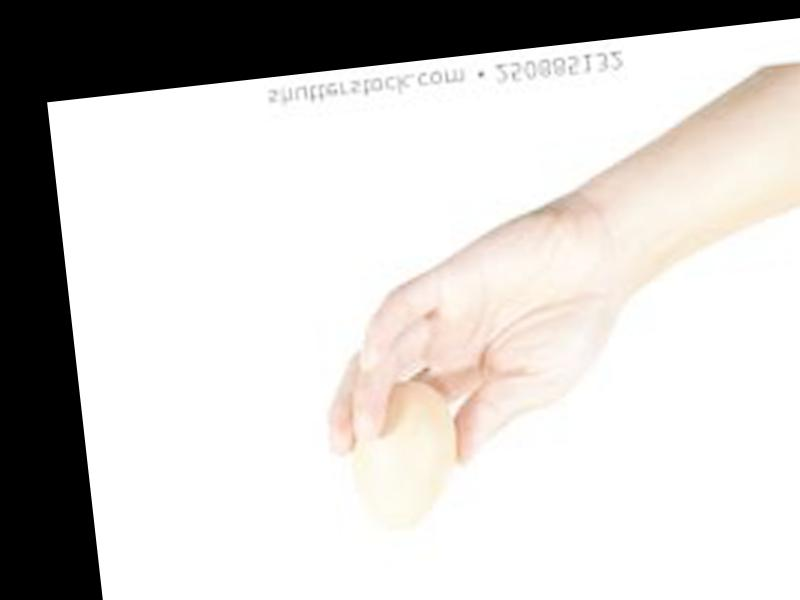Eggs: (343, 371, 465, 537)
